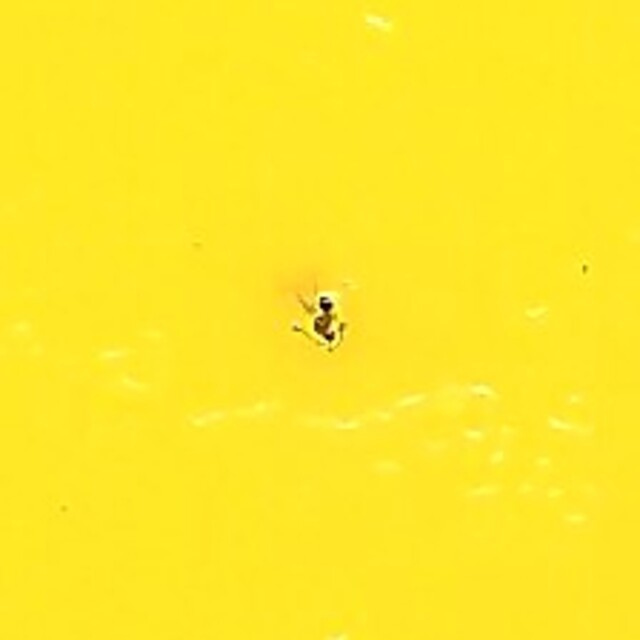Hymenoptera: (286, 286, 354, 354)
